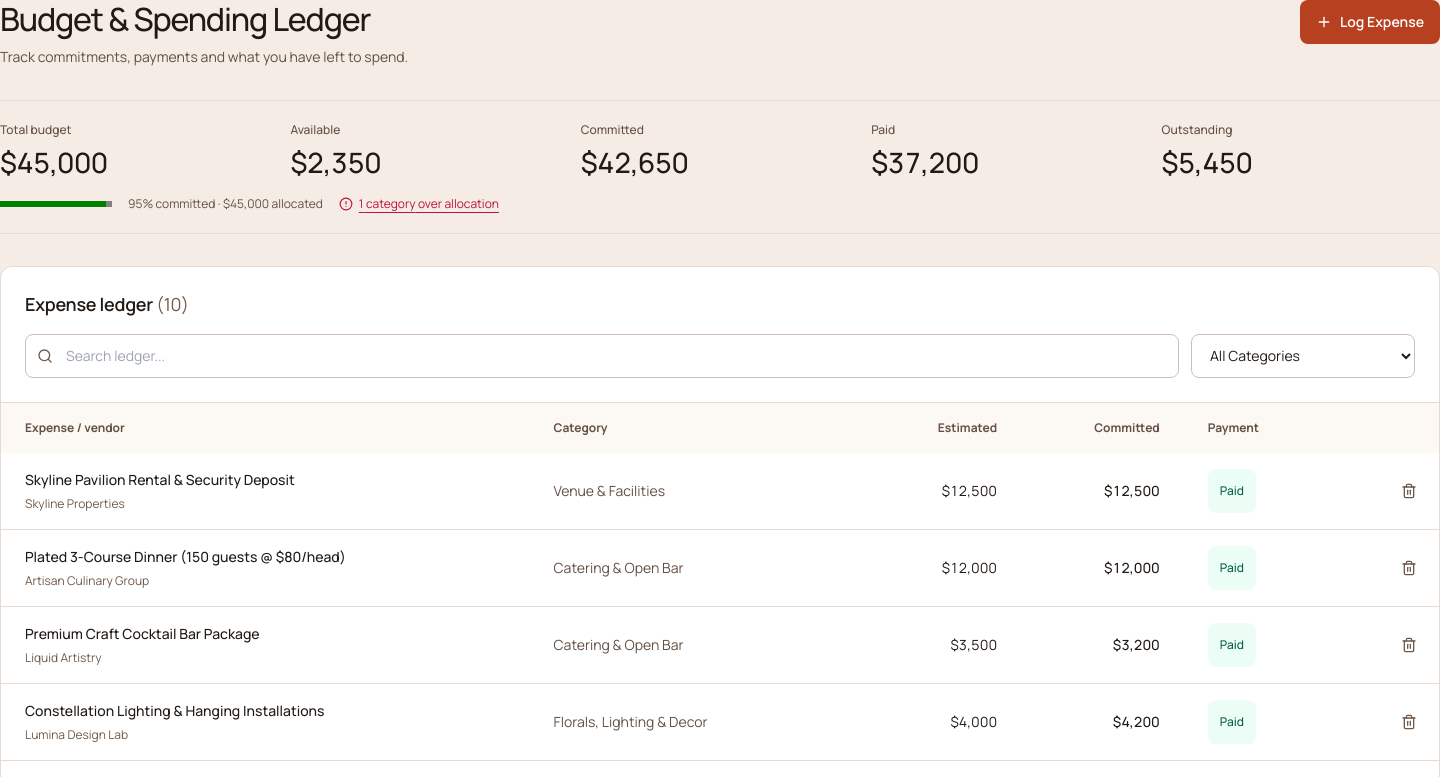
Test: Operator workflows through accessible controls › recovers from empty ledger filters and updates payment totals through the ledger
In the search field named "Search expense ledger": (602, 356) [25,334,1179,378], type "no-such-expense"
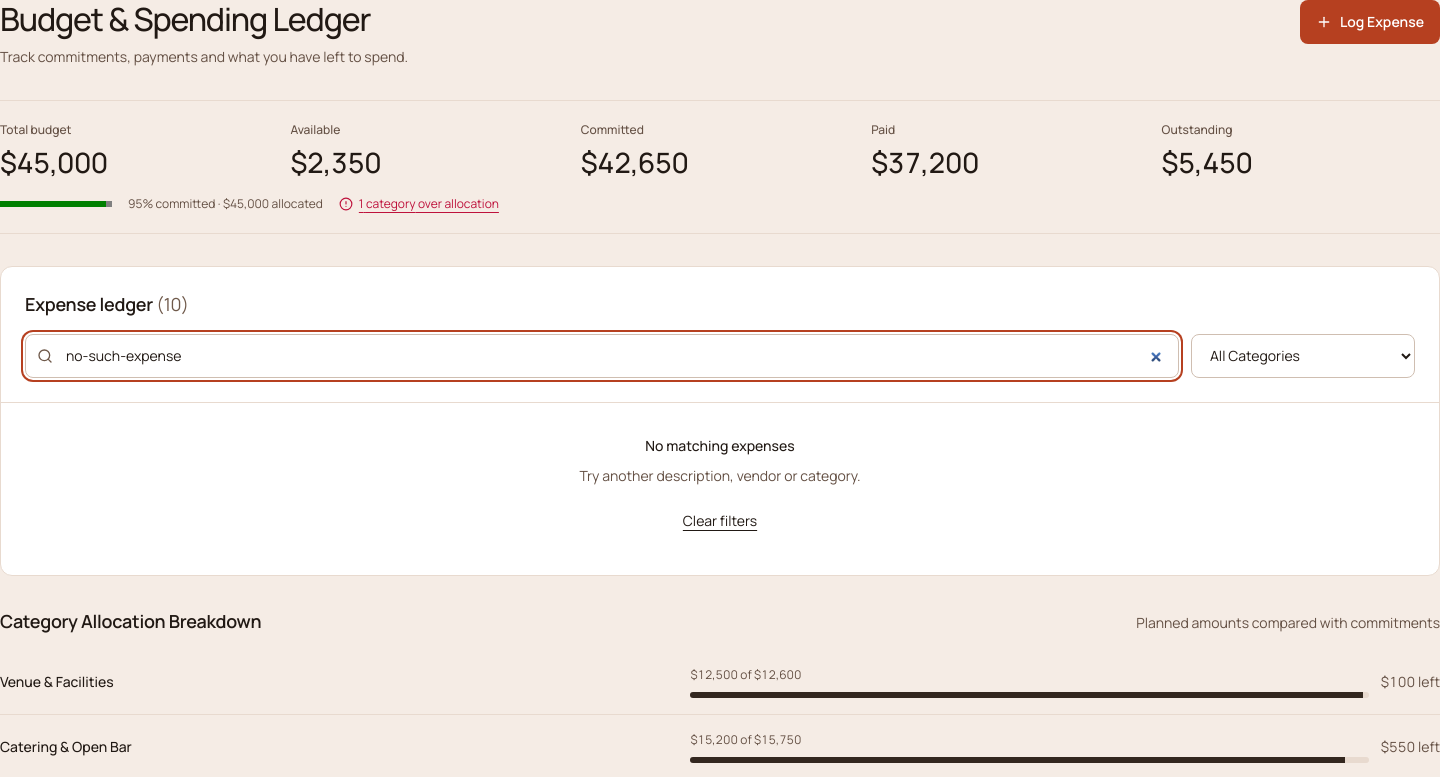
Expected: the text "No matching expenses" is shown, [645,436,795,455]
Click the button "Clear filters": (720, 521) [683,499,757,543]
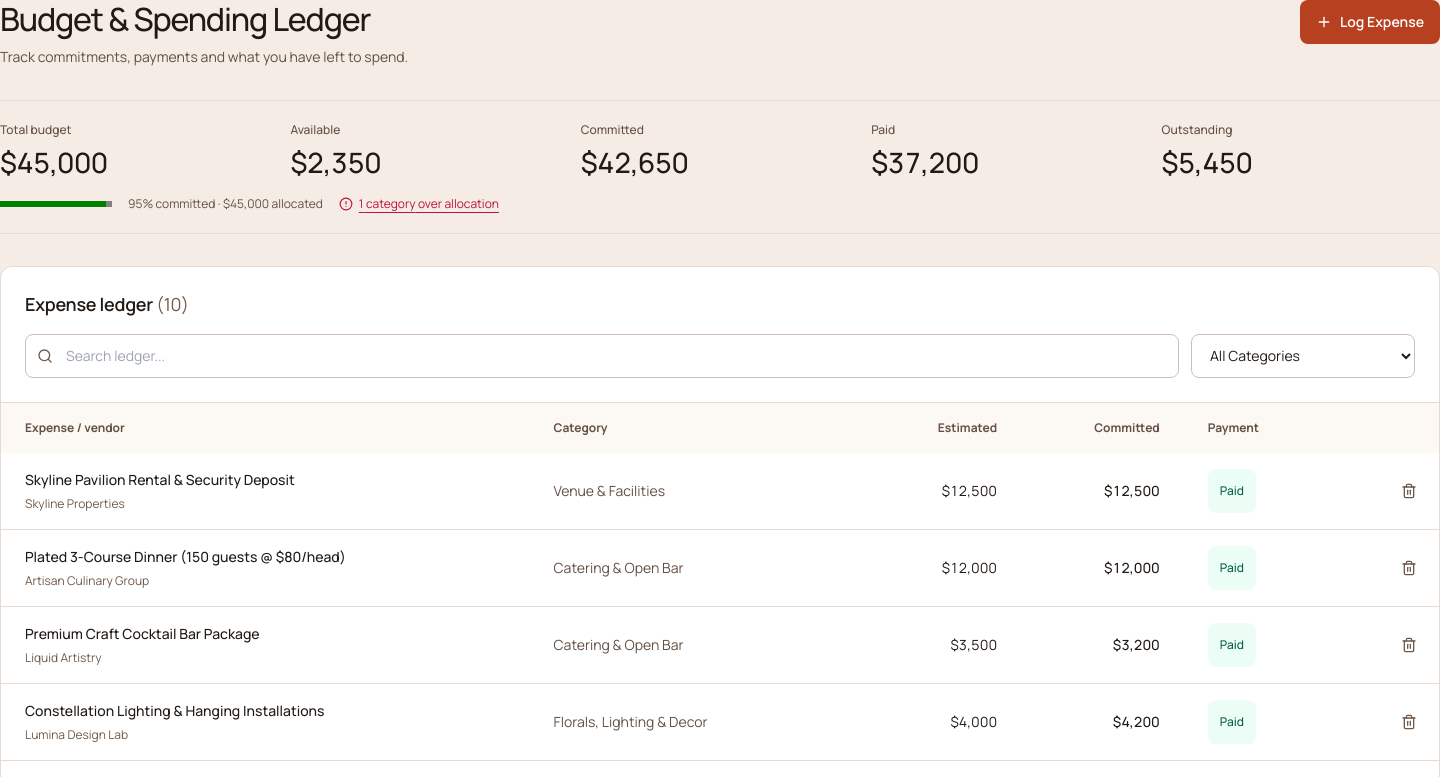
Select "Venue & Facilities" in the dropdown named "Filter expenses by category": (1303, 356) [1191,334,1415,378]
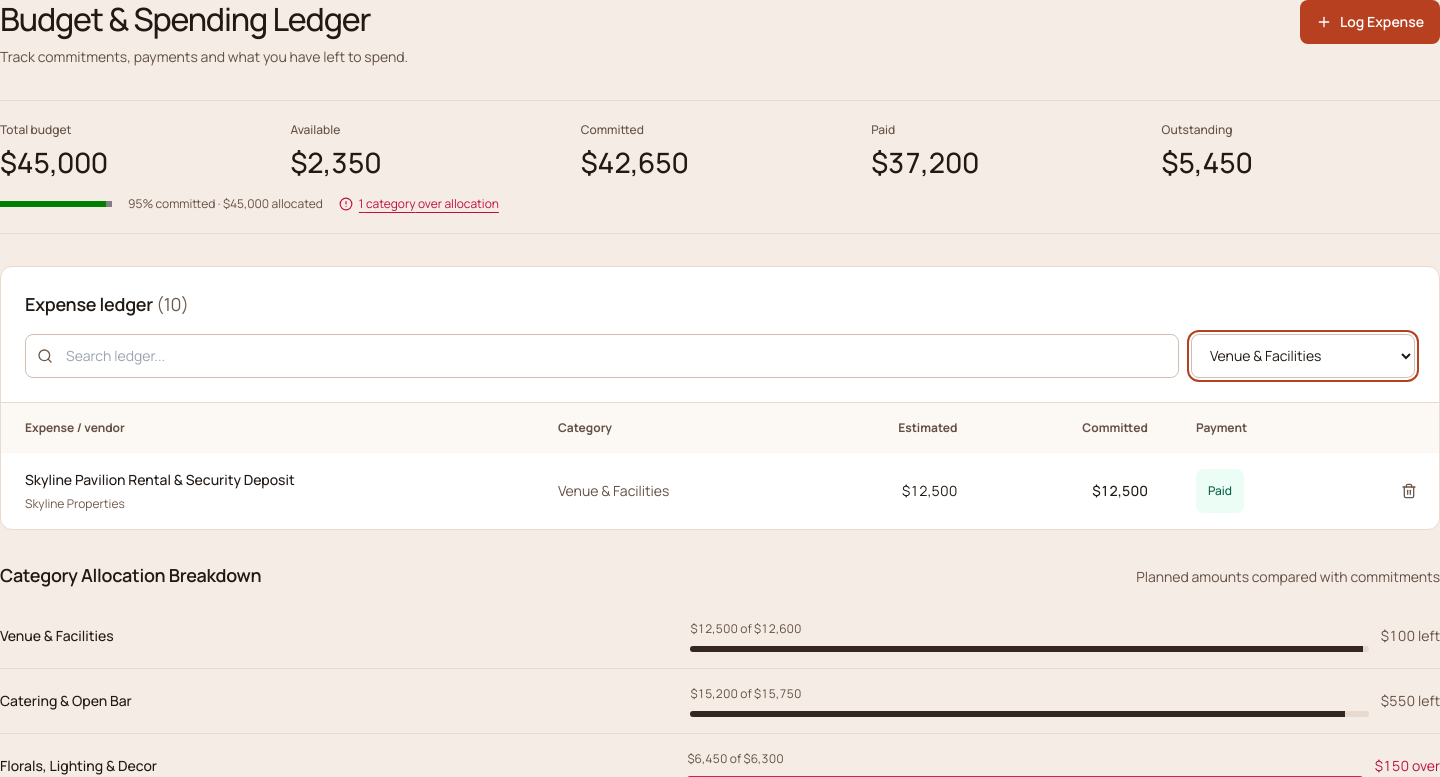
Click the button "Paid": (1220, 491) [1196,469,1244,513]
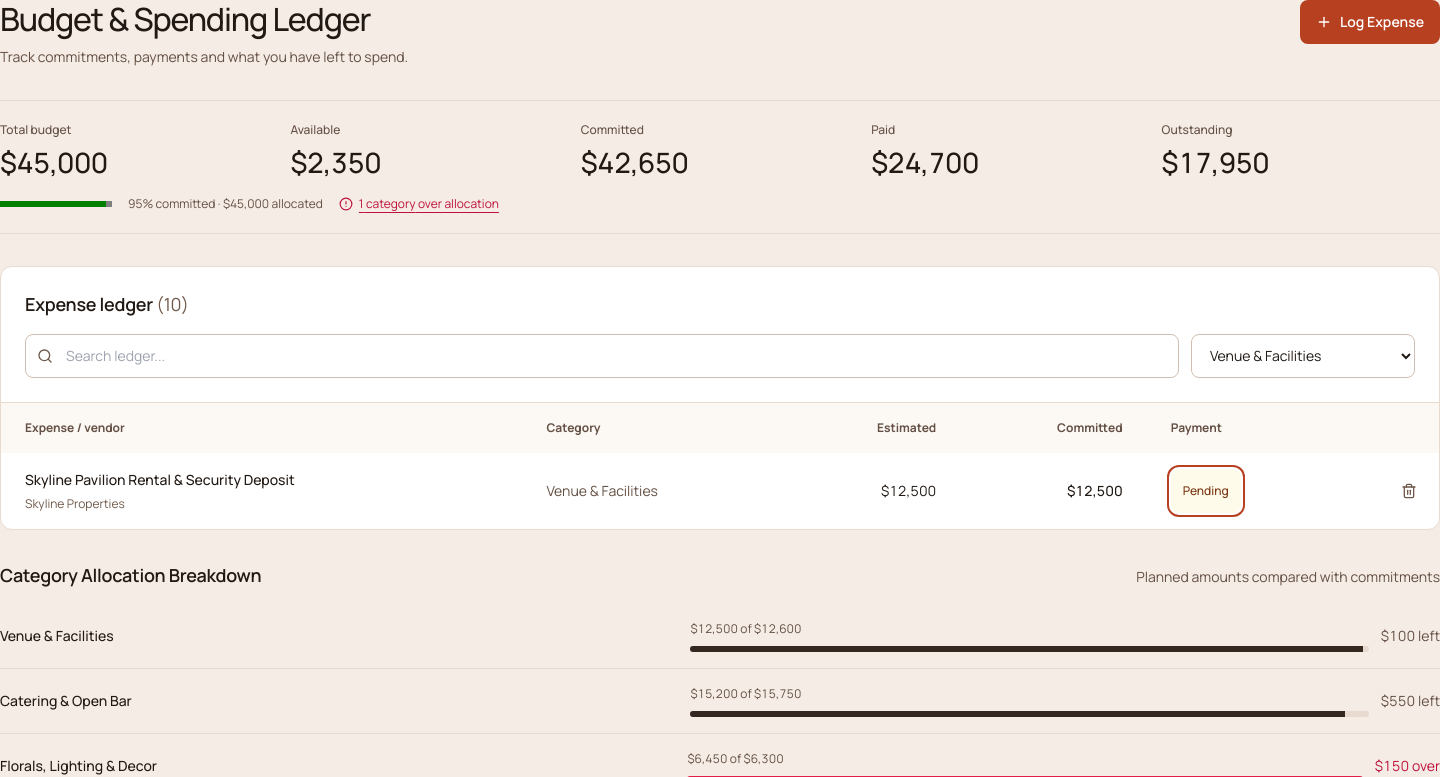
Expected: the text "$24,700" is shown, [871,143,979,181]
Click the button named "Delete expense Skyline Pavilion Rental": (1409, 491) [1387,469,1431,513]
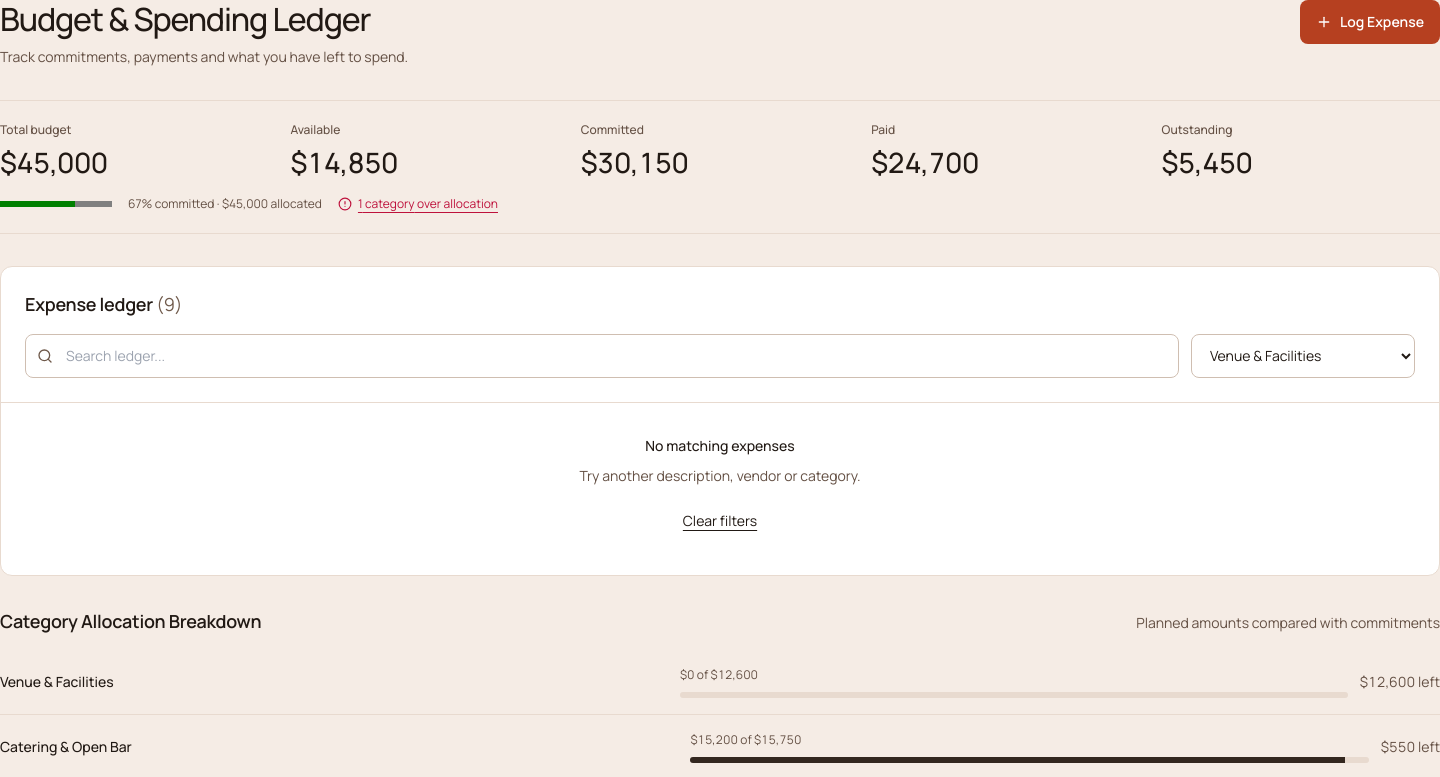
Expected: the text "Skyline Pavilion Rental & Security Deposit" is gone
Expected: the text "$30,150" is shown, [581,143,688,181]
